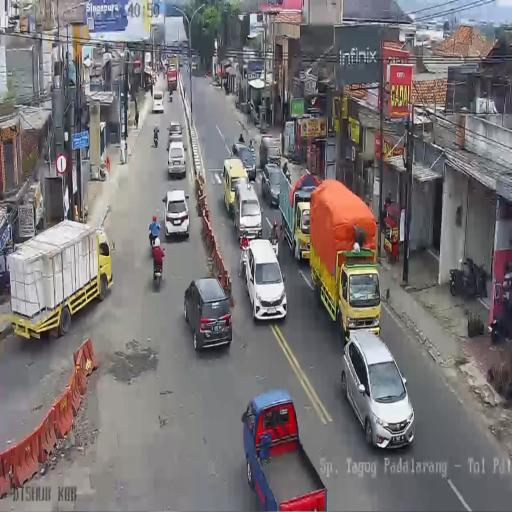car: (343, 329, 415, 447), (241, 238, 286, 323), (184, 278, 233, 351), (233, 182, 261, 242), (163, 188, 190, 239), (294, 198, 312, 261), (262, 163, 286, 209), (232, 140, 256, 182), (167, 140, 187, 178), (259, 134, 280, 170), (167, 121, 183, 144), (152, 90, 164, 112), (179, 59, 183, 68)
motorcycle: (490, 305, 512, 345), (151, 245, 164, 287), (149, 224, 160, 250), (152, 131, 159, 148), (168, 87, 173, 101)
truck: (3, 218, 116, 338), (309, 178, 378, 340), (167, 67, 178, 92), (144, 50, 152, 78)
